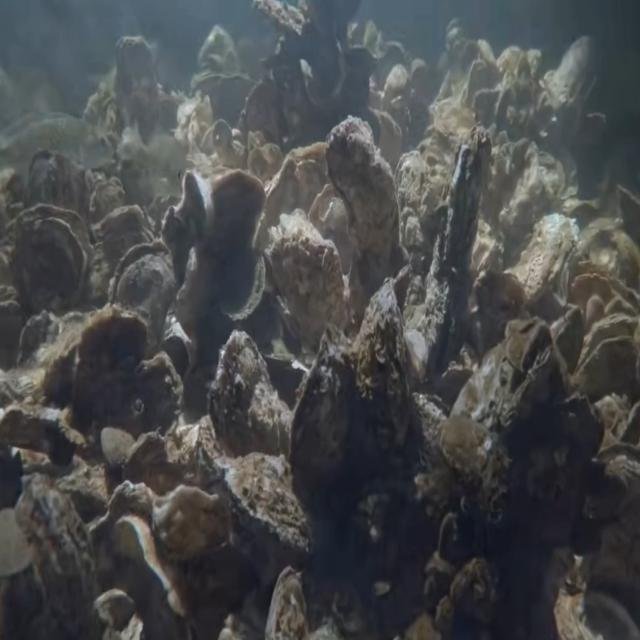Oyster-Closed: (204, 450, 318, 565), (326, 115, 400, 292), (262, 565, 307, 639), (100, 424, 138, 468)
Oyster-Indeterminate: (426, 126, 494, 334), (13, 471, 94, 640), (448, 316, 558, 434), (289, 321, 356, 511), (266, 208, 345, 348), (41, 303, 149, 402), (354, 278, 410, 460), (206, 329, 283, 457), (210, 168, 268, 320), (16, 198, 96, 308), (502, 213, 582, 311), (394, 150, 438, 290), (128, 350, 184, 434), (549, 308, 586, 380)
Oyster-Open: (111, 237, 178, 350), (571, 313, 640, 407), (164, 168, 211, 271)
